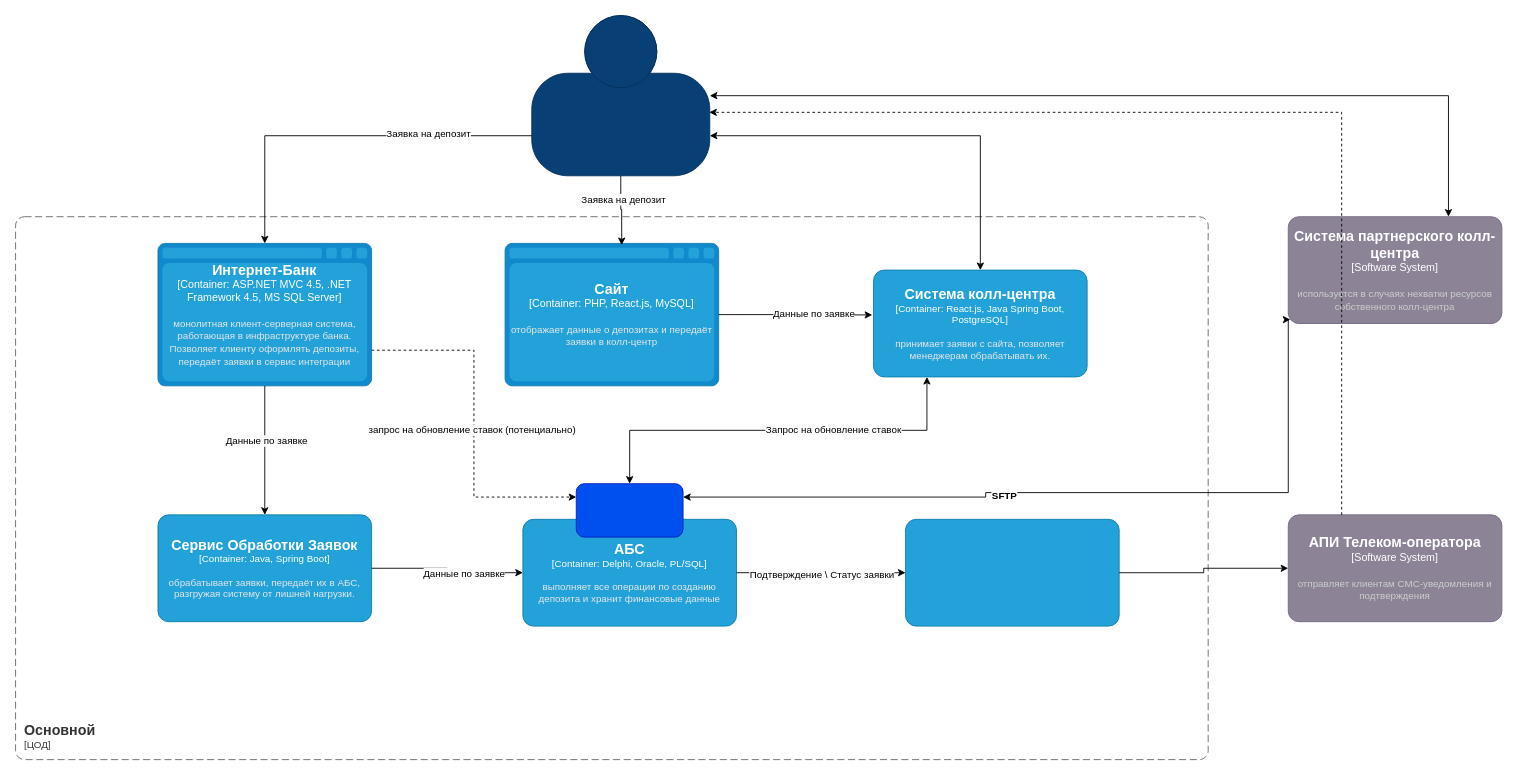
Image size: 1517x775. Some labels were removed from this diagram. Each missing label, with the centre of its shape:
АПИ: point (629, 510)
Клиент \ Потенциальный клиент [Person] Клиент: point (620, 95)
СМС-Шлюз [Container: ] интеграция с АПИ телеком-оператора: point (1012, 572)
